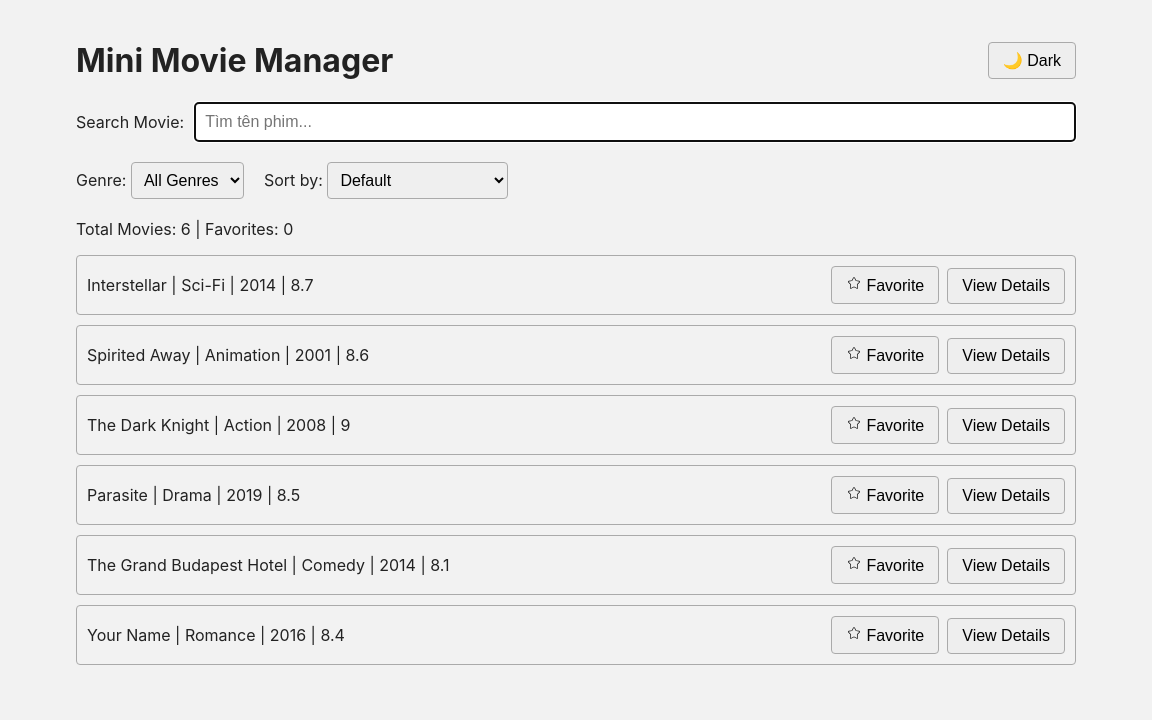
Test: thêm / bỏ yêu thích và lưu vào localStorage
Click the button "Favorite" in the row of "8.7" at point(885, 285), box [831,266,939,304]
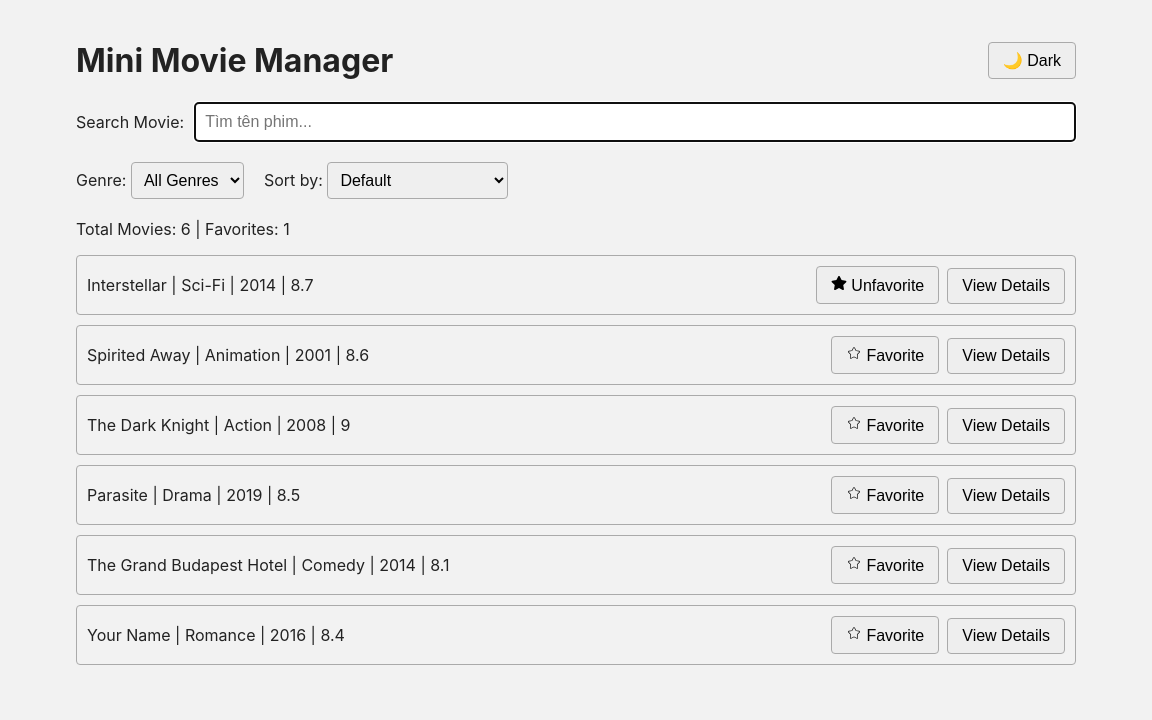
Result: the text "Total Movies: 6 | Favorites: 1" is shown at [76,219,290,239]
Click the button "Unfavorite" at point(878, 285), box [816,266,939,304]
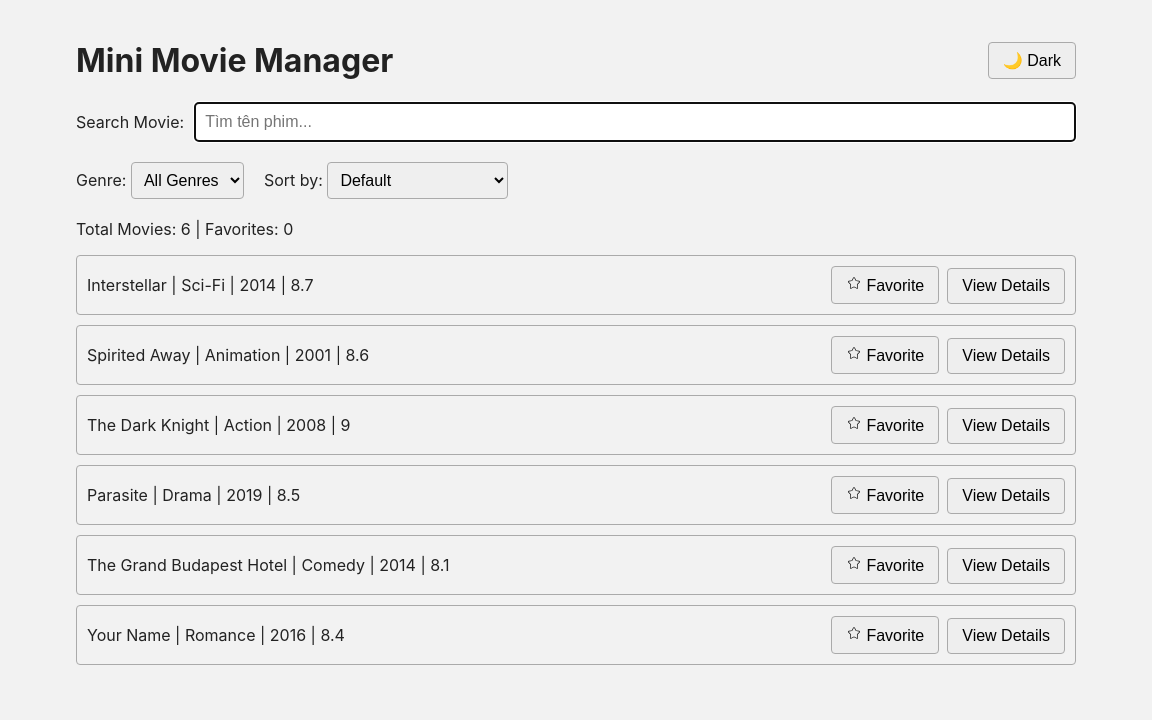
Result: the text "Total Movies: 6 | Favorites: 0" is shown at [76,219,293,239]
